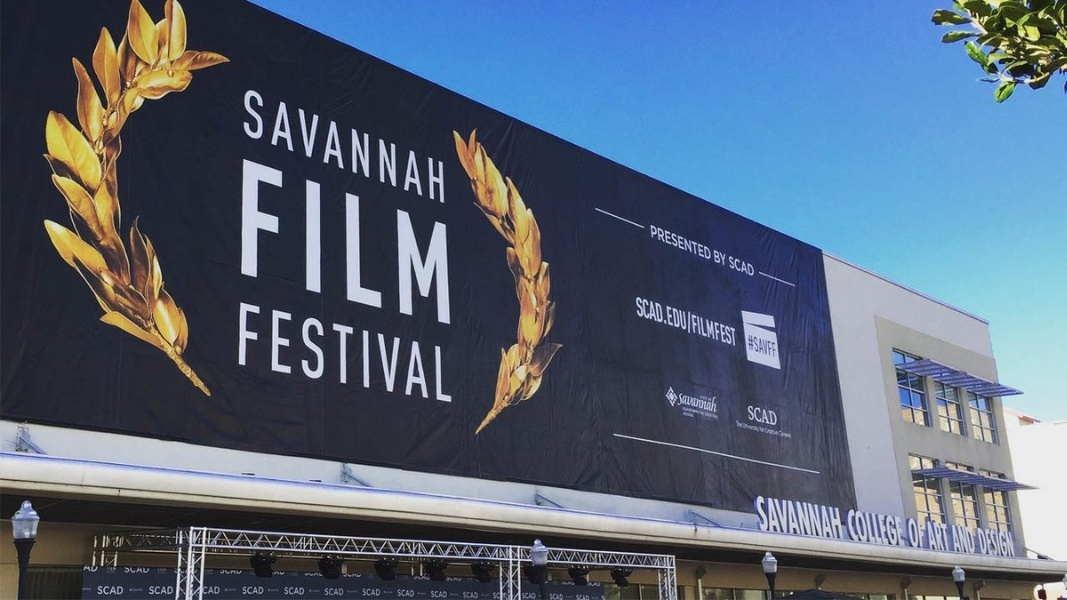text: (241, 156, 256, 330), (257, 156, 272, 330), (273, 156, 288, 330), (289, 156, 304, 330), (305, 156, 320, 330), (321, 156, 336, 330), (337, 156, 352, 330), (353, 156, 368, 330), (369, 156, 384, 330), (385, 156, 400, 330), (401, 156, 416, 330), (417, 156, 432, 330), (433, 156, 448, 330), (257, 86, 272, 206), (273, 86, 288, 206), (289, 86, 304, 206), (305, 86, 320, 206), (321, 86, 336, 206), (337, 86, 352, 206), (353, 86, 368, 206), (369, 86, 384, 206), (385, 86, 400, 206), (401, 86, 416, 206), (417, 86, 432, 206), (433, 86, 448, 206), (241, 301, 256, 406), (257, 301, 272, 406), (273, 301, 288, 406), (289, 301, 304, 406), (305, 301, 320, 406), (321, 301, 336, 406), (337, 301, 352, 406), (353, 301, 368, 406), (369, 301, 384, 406), (385, 301, 400, 406), (401, 301, 416, 406), (417, 301, 432, 406), (433, 301, 448, 406), (244, 86, 256, 206), (449, 156, 455, 330), (641, 294, 656, 350), (657, 294, 672, 350), (673, 294, 688, 350), (689, 294, 704, 350), (705, 294, 720, 350), (721, 294, 736, 350), (449, 301, 456, 406), (769, 494, 784, 541), (785, 494, 800, 541), (801, 494, 816, 541), (817, 494, 832, 541), (833, 494, 847, 541), (657, 223, 672, 263), (673, 223, 688, 263), (689, 223, 704, 263), (849, 508, 864, 548), (865, 508, 880, 548), (881, 508, 896, 548), (756, 494, 768, 541), (961, 523, 976, 556), (977, 525, 992, 557), (993, 525, 1008, 557), (929, 521, 944, 552), (897, 508, 907, 548), (737, 253, 752, 279), (753, 332, 768, 358), (913, 518, 925, 549), (949, 523, 960, 556), (753, 404, 768, 427), (689, 391, 704, 414), (705, 391, 720, 414), (705, 223, 713, 263), (737, 419, 752, 440), (753, 419, 768, 440), (769, 419, 784, 440), (635, 294, 640, 350), (1009, 525, 1017, 557), (650, 223, 656, 263), (769, 404, 779, 427), (737, 294, 741, 350), (945, 521, 952, 552), (689, 406, 704, 420), (769, 332, 777, 358), (705, 406, 719, 420), (401, 587, 417, 599), (680, 391, 688, 414), (729, 253, 736, 279), (289, 585, 305, 596), (242, 585, 256, 597), (785, 419, 793, 440), (97, 585, 112, 596), (161, 585, 176, 596), (465, 589, 480, 600), (369, 586, 382, 598), (907, 518, 912, 549), (433, 590, 448, 600), (113, 585, 126, 596), (323, 586, 336, 597), (129, 567, 144, 576), (713, 247, 720, 266), (148, 585, 160, 596), (747, 332, 752, 358), (209, 586, 222, 596), (83, 565, 96, 575), (497, 591, 511, 600), (924, 521, 928, 552), (225, 569, 240, 577), (747, 404, 752, 427), (721, 247, 727, 266), (449, 576, 463, 584), (197, 586, 208, 596), (548, 591, 560, 600), (239, 301, 240, 406), (257, 585, 265, 597), (577, 593, 592, 599), (273, 571, 288, 577), (337, 586, 345, 597), (682, 406, 688, 420), (417, 576, 431, 582), (305, 573, 320, 578), (362, 586, 368, 598), (529, 592, 538, 600), (977, 523, 979, 556), (282, 585, 288, 596), (753, 253, 755, 279), (353, 574, 363, 579), (396, 587, 400, 599), (522, 592, 528, 600), (491, 591, 496, 600), (123, 567, 128, 576), (145, 567, 150, 576), (343, 574, 352, 579), (689, 411, 695, 418), (847, 508, 848, 548), (219, 569, 224, 577), (561, 591, 565, 600), (683, 411, 688, 418), (429, 590, 432, 600), (97, 565, 100, 575), (445, 576, 448, 584), (721, 391, 722, 414), (735, 419, 736, 440), (413, 576, 416, 582), (463, 589, 464, 600), (449, 590, 450, 600), (321, 573, 323, 578), (241, 569, 242, 577), (575, 593, 576, 599), (303, 573, 304, 578)
